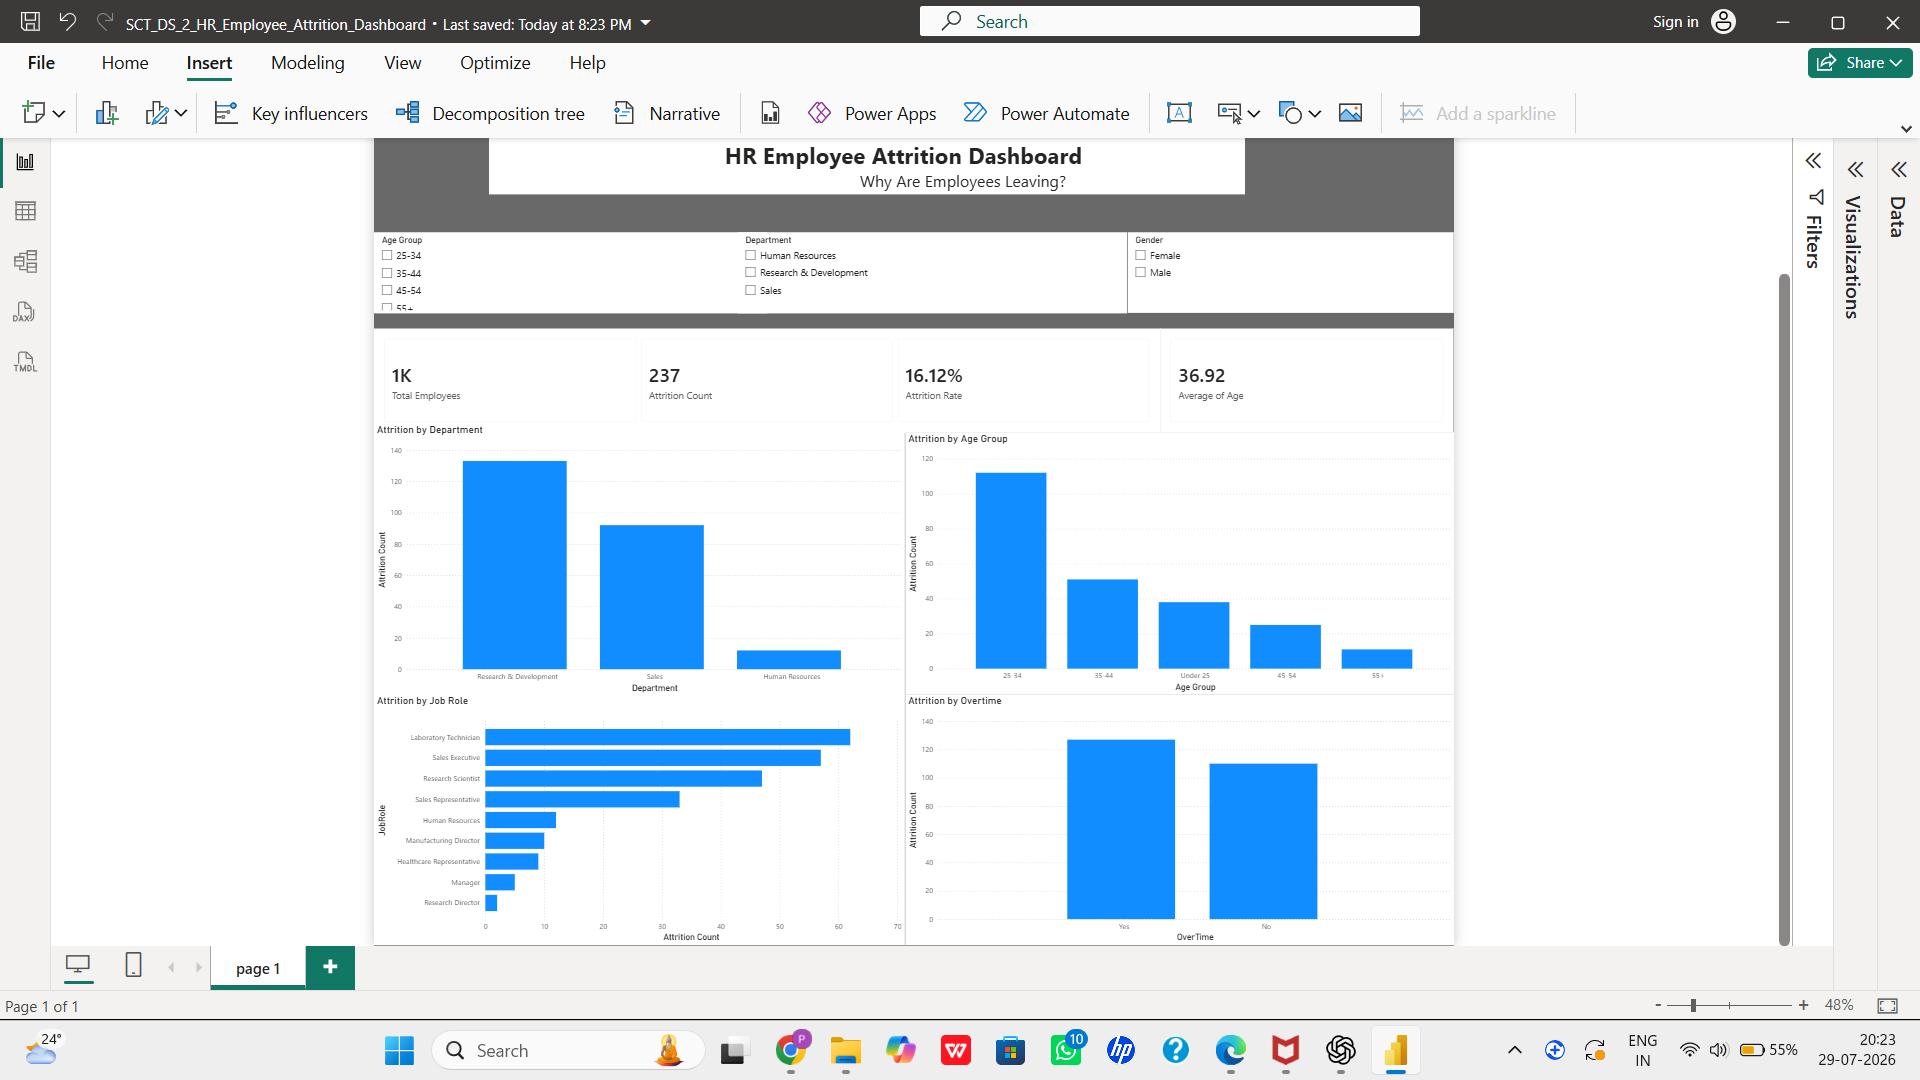

This screenshot's page, from the dashboard's own definition file:
{"tool":"powerbi","page":{"name":"page 1","canvas":[1800,1601],"ordinal":0},"visuals":[{"type":"cardVisual","fields":{"Data":["WA_Fn-UseC_-HR-Employee-Attrition.Total Employees","WA_Fn-UseC_-HR-Employee-Attrition.Attrition Count","WA_Fn-UseC_-HR-Employee-Attrition.Attrition Rate"]},"box":[0,571.1,1311.1,173.3],"z":0},{"type":"cardVisual","fields":{"Data":["Avg(WA_Fn-UseC_-HR-Employee-Attrition.Age)"]},"box":[1311.1,571.1,488.9,173.3],"z":1000},{"type":"clusteredColumnChart","title":"Attrition by Age Group","fields":{"Category":["WA_Fn-UseC_-HR-Employee-Attrition.Age Group"],"Y":["WA_Fn-UseC_-HR-Employee-Attrition.Attrition Count"]},"box":[884.4,744.4,915.6,437.8],"z":2000},{"type":"clusteredBarChart","title":"Attrition by Job Role","fields":{"Category":["WA_Fn-UseC_-HR-Employee-Attrition.JobRole"],"Y":["WA_Fn-UseC_-HR-Employee-Attrition.Attrition Count"]},"box":[0,1182.2,884.4,417.8],"z":3000},{"type":"clusteredColumnChart","title":"Attrition by Overtime","fields":{"Category":["WA_Fn-UseC_-HR-Employee-Attrition.OverTime"],"Y":["WA_Fn-UseC_-HR-Employee-Attrition.Attrition Count"]},"box":[884.4,1182.2,915.6,417.8],"z":4000},{"type":"clusteredColumnChart","title":"Attrition by Department","fields":{"Y":["WA_Fn-UseC_-HR-Employee-Attrition.Attrition Count"],"Category":["WA_Fn-UseC_-HR-Employee-Attrition.Department"]},"box":[0,728.9,884.4,453.3],"z":7000},{"type":"slicer","fields":{"Values":["WA_Fn-UseC_-HR-Employee-Attrition.Age Group"]},"box":[0,411.1,655.6,135.6],"z":8000},{"type":"slicer","fields":{"Values":["WA_Fn-UseC_-HR-Employee-Attrition.Department"]},"box":[606.7,411.1,648.9,135.6],"z":9000},{"type":"textbox","box":[191.1,251.1,1260.2,95.1],"z":9002},{"type":"slicer","fields":{"Values":["WA_Fn-UseC_-HR-Employee-Attrition.Gender"]},"box":[1256.5,410.9,543.5,134.8],"z":9003}]}

Visuals, with their boxes on the page's 1800x1601 design canvas (x1, y1, x2, y2). These are canvas units, not pixel positions in the 1920x1080 screenshot, which may show the page scaled, cropped or inside an application window:
cardVisual - WA_Fn-UseC_-HR-Employee-Attrition.Total Employees x WA_Fn-UseC_-HR-Employee-Attrition.Attrition Count: 0, 571, 1311, 744
cardVisual - Avg(WA_Fn-UseC_-HR-Employee-Attrition.Age): 1311, 571, 1800, 744
"Attrition by Age Group" clusteredColumnChart: 884, 744, 1800, 1182
"Attrition by Job Role" clusteredBarChart: 0, 1182, 884, 1600
"Attrition by Overtime" clusteredColumnChart: 884, 1182, 1800, 1600
"Attrition by Department" clusteredColumnChart: 0, 729, 884, 1182
slicer - WA_Fn-UseC_-HR-Employee-Attrition.Age Group: 0, 411, 656, 547
slicer - WA_Fn-UseC_-HR-Employee-Attrition.Department: 607, 411, 1256, 547
textbox: 191, 251, 1451, 346
slicer - WA_Fn-UseC_-HR-Employee-Attrition.Gender: 1256, 411, 1800, 546
